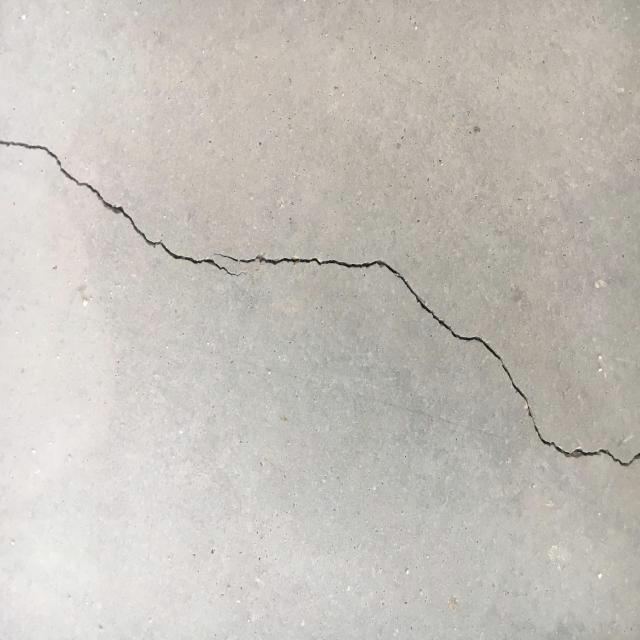SurfaceCrack: (0, 34, 639, 492)
